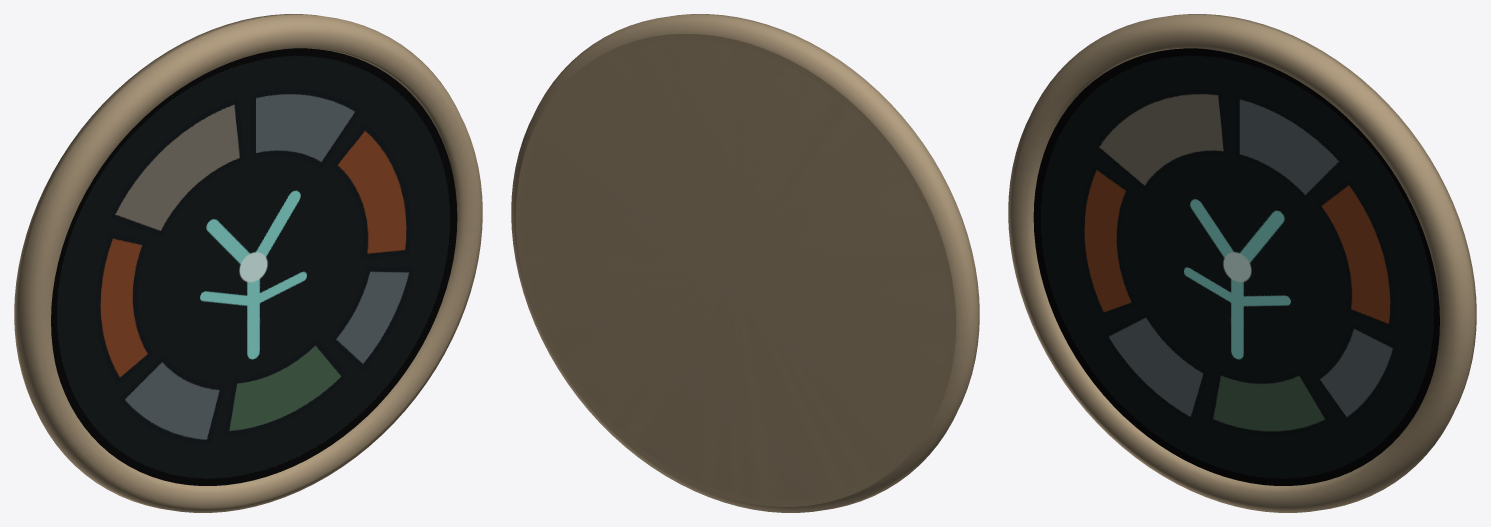
Rendered from exponent.glb.
The picture shows the model from 3 angles, left to right: view 1: azimuth 30°, elevation 25°; view 2: azimuth 150°, elevation 25°; view 3: azimuth 330°, elevation 25°; orthographic projection.
Visible parts, largest first — view 1: emblem_exponent; view 2: emblem_exponent; view 3: emblem_exponent.
Boxes of the visible parts, box(x1,y1,x2,y2) form: emblem_exponent: box(14, 14, 482, 512); emblem_exponent: box(511, 14, 979, 512); emblem_exponent: box(1008, 14, 1476, 512).
Bounding box in the file's own units: 0.966 × 0.966 × 0.069.
2 materials, 1 textured.
